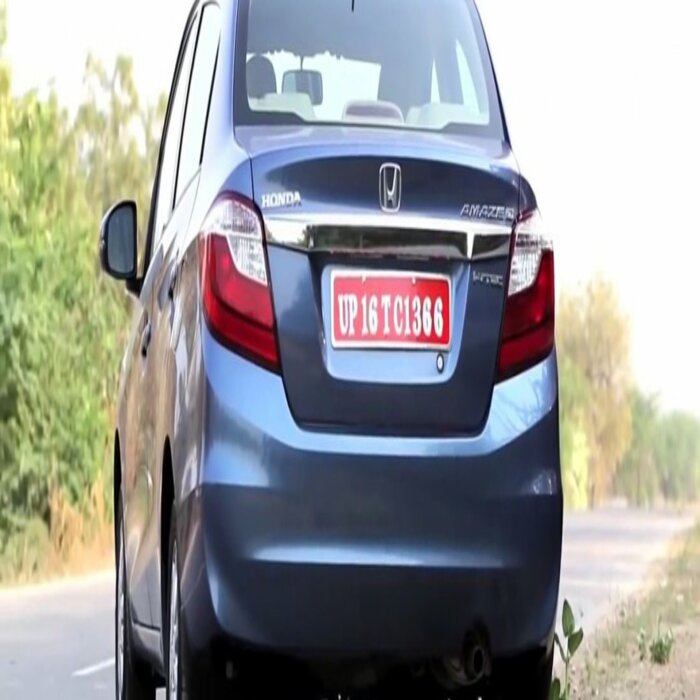n: (326, 257, 454, 354)
